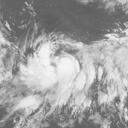cyclone: (18, 37, 85, 99)
